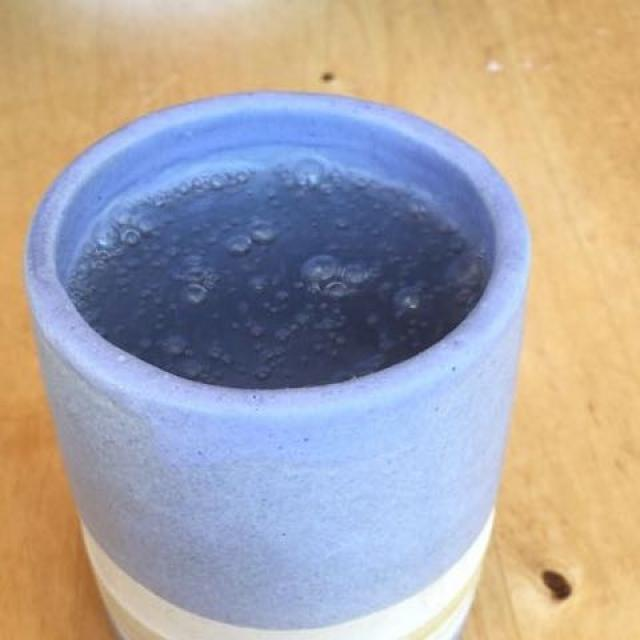water: (78, 162, 471, 390)
